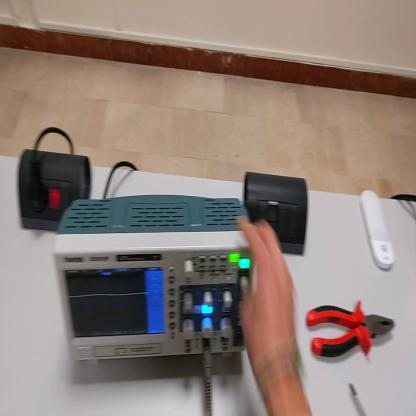hand: (236, 215, 298, 369)
oscilloscope: (48, 195, 246, 367)
pliers: (306, 305, 397, 362)
screwdriver-: (350, 382, 367, 415)
socket: (16, 151, 94, 235)
